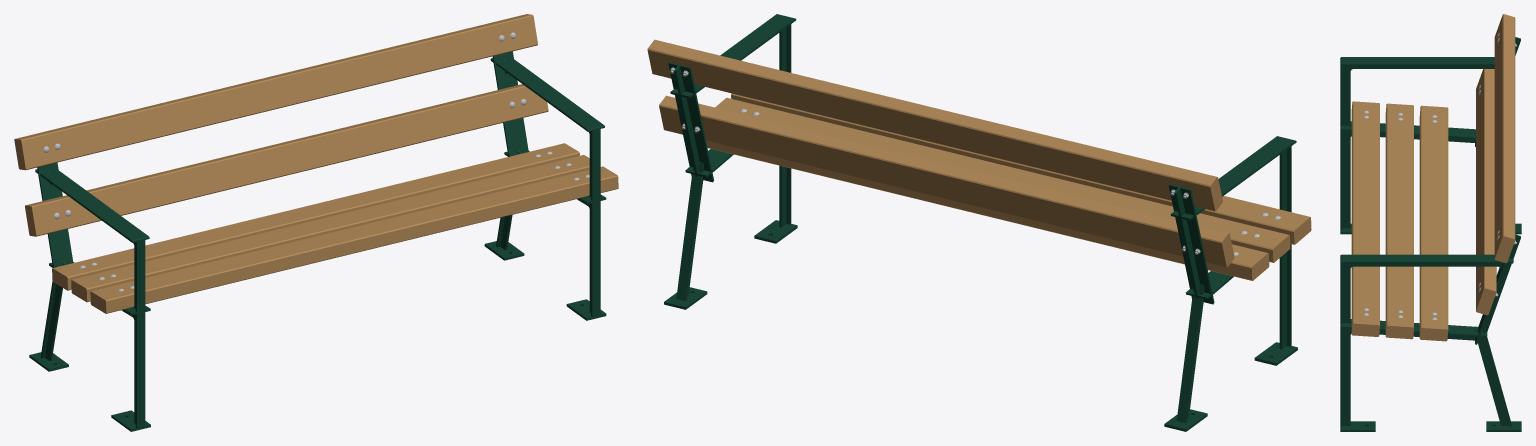
The model's file is serra180_GRN.glb.
3 renders of one model, left to right at view 1: azimuth 30°, elevation 25°; view 2: azimuth 150°, elevation 25°; view 3: azimuth 270°, elevation 25°, orthographic. The views are drawn at different scales.
Visible parts, largest first — view 1: slat_back_2, slat_back_1, slat_seat_1, slat_seat_3, slat_seat_2, frame_left, frame_right; view 2: slat_back_2, slat_back_1, frame_left, frame_right, slat_seat_2, slat_seat_3, slat_seat_1; view 3: frame_right, slat_seat_3, slat_seat_1, slat_seat_2, slat_back_2, frame_left, slat_back_1.
Boxes of the visible parts, x1,y1,x2,y2 form: slat_back_2: [14, 14, 537, 170]; slat_back_1: [25, 84, 548, 236]; slat_seat_1: [90, 166, 618, 313]; slat_seat_3: [52, 143, 579, 290]; slat_seat_2: [71, 155, 589, 302]; frame_left: [29, 162, 150, 431]; frame_right: [484, 51, 606, 320]; slat_back_2: [647, 39, 1222, 211]; slat_back_1: [659, 95, 1234, 267]; frame_left: [1164, 136, 1297, 431]; frame_right: [664, 14, 797, 309]; slat_seat_2: [715, 97, 1290, 262]; slat_seat_3: [706, 140, 1269, 280]; slat_seat_1: [731, 93, 1311, 244]; frame_right: [1340, 234, 1521, 431]; slat_seat_3: [1419, 105, 1448, 341]; slat_seat_1: [1351, 101, 1379, 336]; slat_seat_2: [1385, 103, 1413, 339]; slat_back_2: [1494, 14, 1515, 262]; frame_left: [1340, 37, 1521, 234]; slat_back_1: [1476, 69, 1496, 315].
Size of the model in its own units: 1.8 by 0.77 by 0.62.
